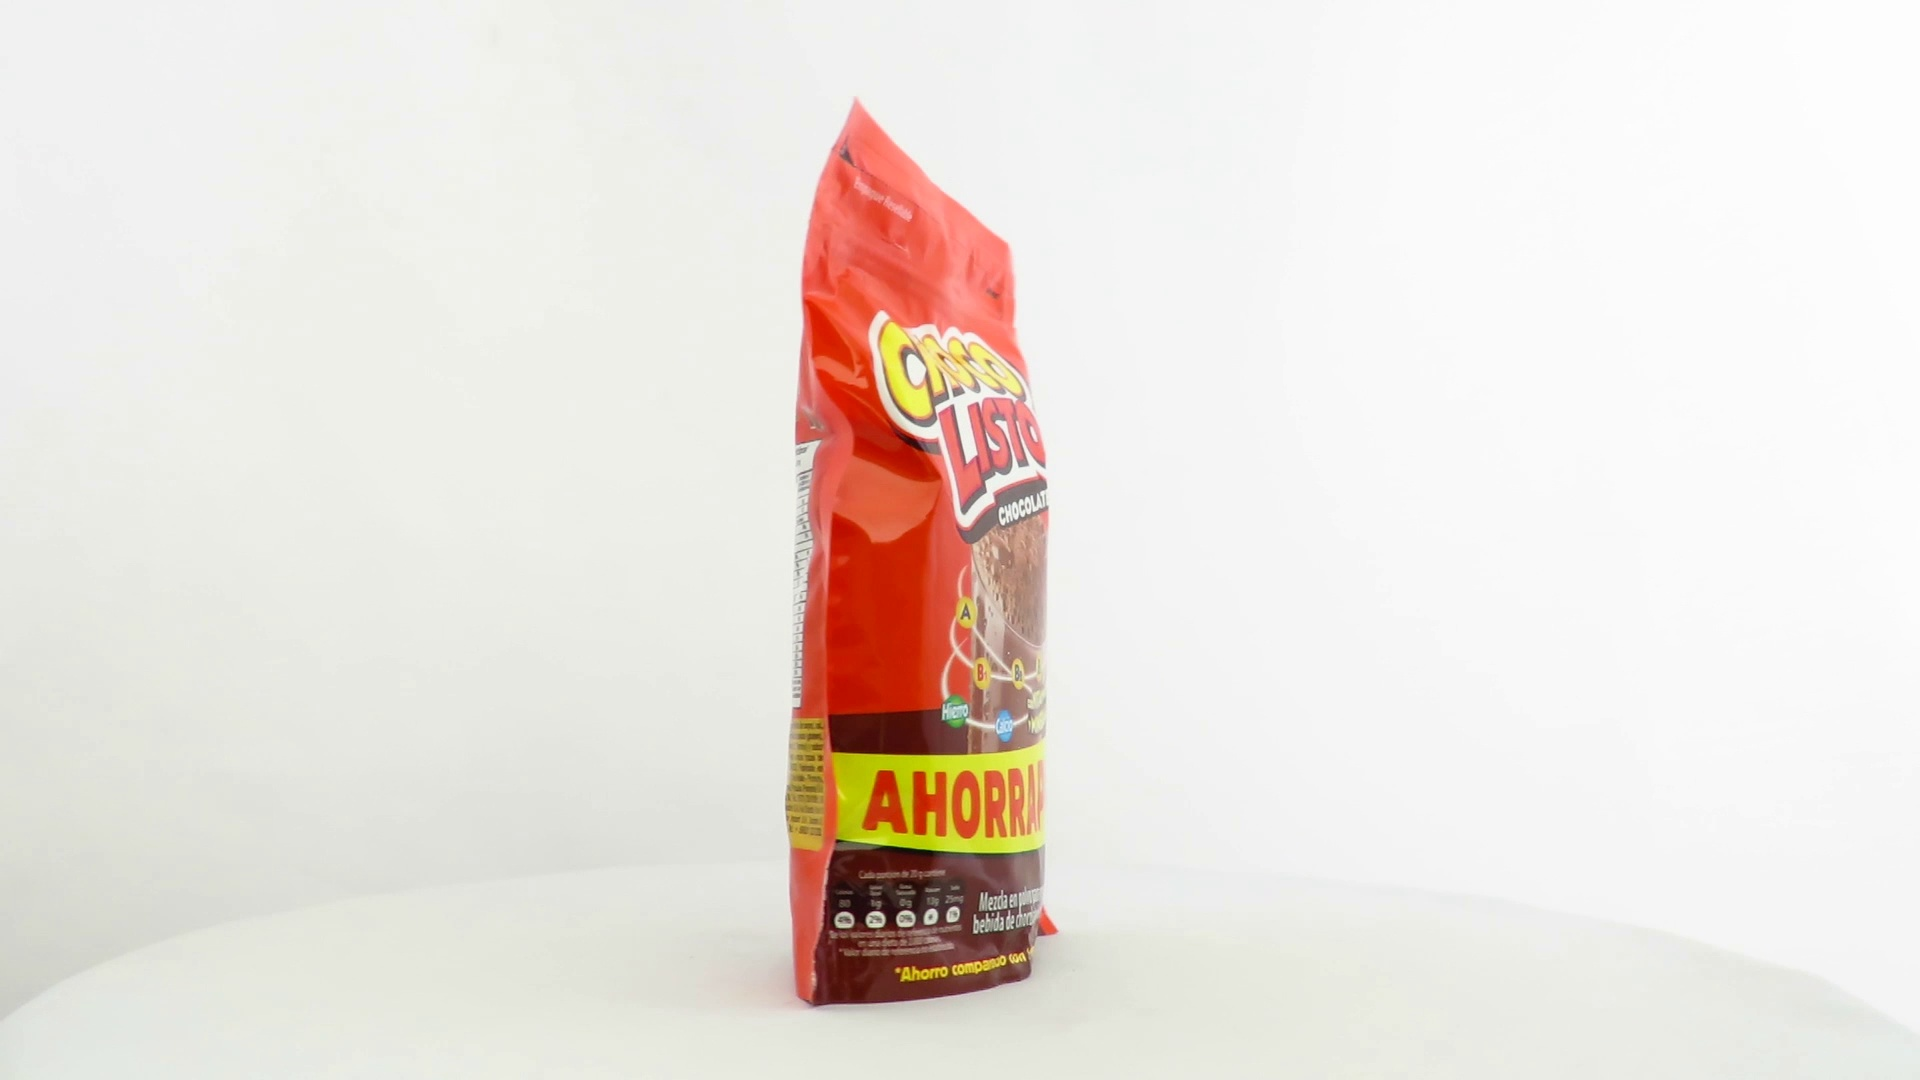COL0170103DYP40000: (781, 91, 1065, 1013)
